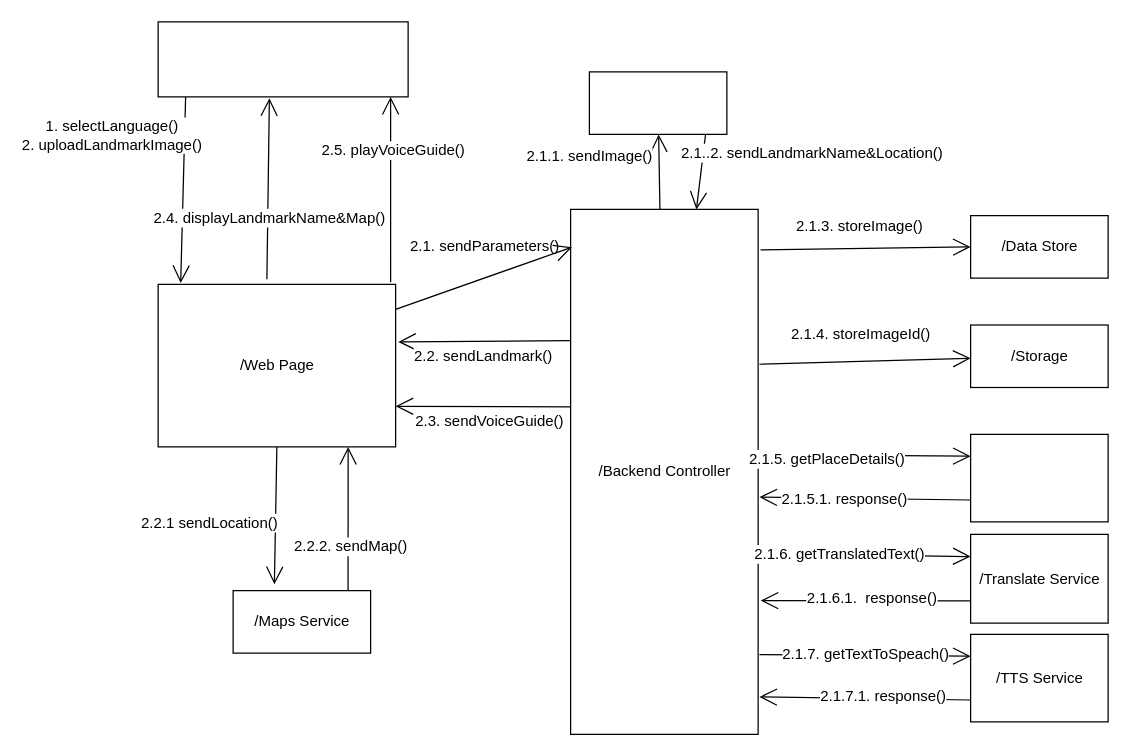
The diagram is 1130 pixels wide and 756 high, and some of its shapes have lost their labels. Here are the shapes that lost their labels. From the top down, the centre of each, then its label:
(282,59): /User
(657,102): /Vision Service
(1038,477): /Place Service
